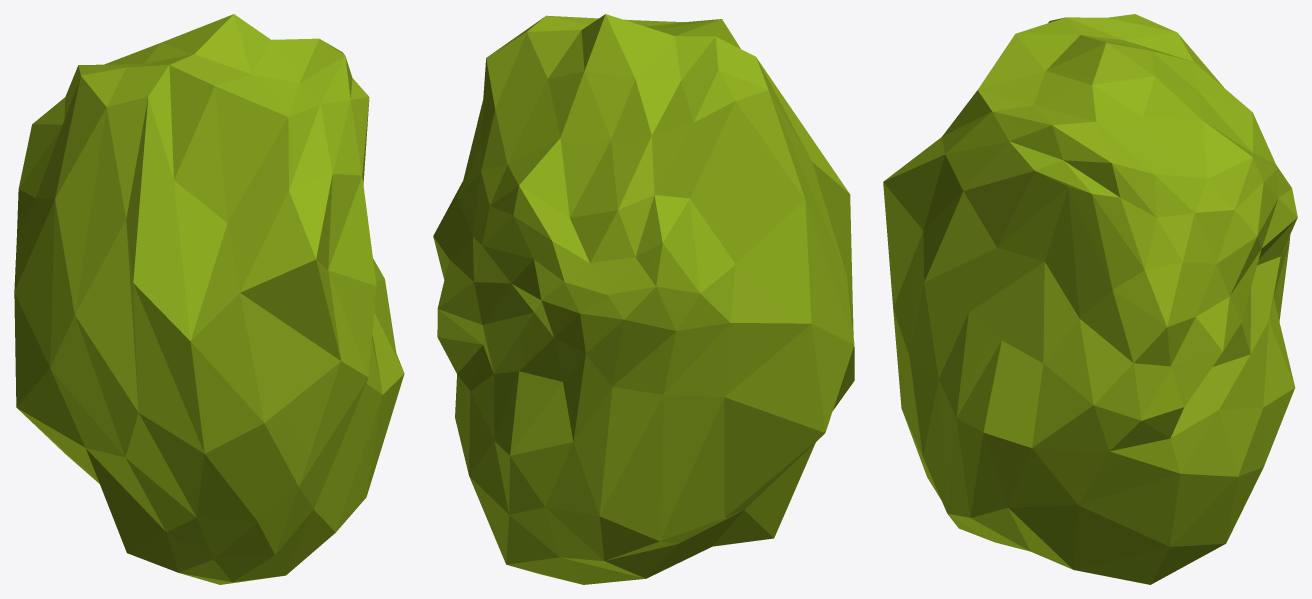
File: Vegetation_Modular_Tree_Foliage_Clump_Large_05.fbx
3 renders of one model, left to right at view 1: azimuth 30°, elevation 25°; view 2: azimuth 150°, elevation 25°; view 3: azimuth 270°, elevation 25°, orthographic. The views are drawn at different scales.
Parts seen in each view (by area): view 1: Vegetation_Modular_Tree_Foliage_Clump_Large_05; view 2: Vegetation_Modular_Tree_Foliage_Clump_Large_05; view 3: Vegetation_Modular_Tree_Foliage_Clump_Large_05.
Part boxes in pixels (x1,y1,x2,y2): Vegetation_Modular_Tree_Foliage_Clump_Large_05: (14,14,404,584); Vegetation_Modular_Tree_Foliage_Clump_Large_05: (433,14,854,584); Vegetation_Modular_Tree_Foliage_Clump_Large_05: (883,14,1297,584).
Size of the model in its own units: 94.47 by 134 by 95.69.
